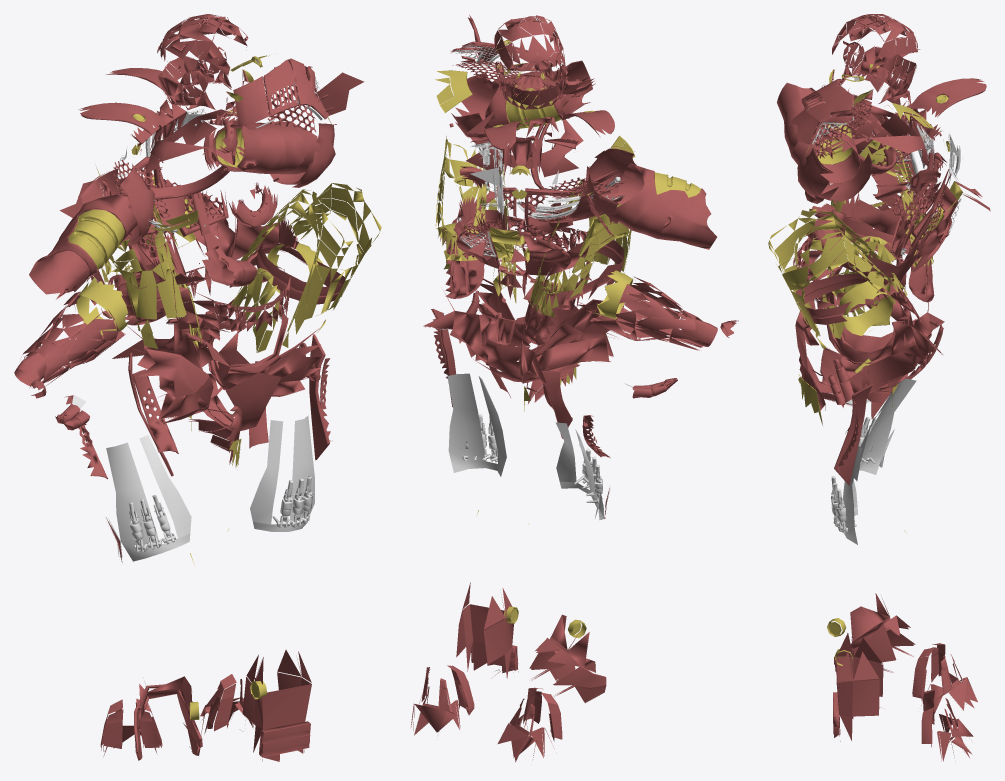
The model's file is walker.glb.
3 views of the same model, side by side, from view 1: azimuth 30°, elevation 25°; view 2: azimuth 150°, elevation 25°; view 3: azimuth 270°, elevation 25° (orthographic). The views are drawn at different scales.
Parts seen in each view (by area): view 1: im_LeftUpLeg_gold, im_Head_red, im_Spine_red, im_RightArm_red, im_Hips_red, im_LeftShoulder_red, im_RightUpLeg_red, im_LeftArm_red, im_LeftFoot_red, im_RightForeArm_red, im_RightLeg_black, im_LeftUpLeg_red (+15 smaller); view 2: im_RightArm_red, im_RightUpLeg_red, im_Head_red, im_RightForeArm_red, im_LeftUpLeg_red, im_LeftLeg_black, im_Hips_red, im_Neck_red, im_LeftFoot_red, im_LeftArm_red, im_RightUpLeg_gold, im_RightFoot_red (+21 smaller); view 3: im_Head_red, im_LeftUpLeg_gold, im_LeftUpLeg_red, im_LeftArm_red, im_RightUpLeg_red, im_Spine_red, im_LeftFoot_red, im_LeftShoulder_red, im_Spine1_red, im_RightFoot_red, im_Hips_red, im_RightToeBase_red (+18 smaller).
Part boxes in pixels (<box>): im_LeftUpLeg_gold: <box>231,183,381,352</box>; im_Head_red: <box>78,14,248,134</box>; im_Spine_red: <box>135,214,298,340</box>; im_RightArm_red: <box>29,167,154,299</box>; im_Hips_red: <box>159,310,288,464</box>; im_LeftShoulder_red: <box>203,58,364,170</box>; im_RightUpLeg_red: <box>91,270,213,423</box>; im_LeftArm_red: <box>212,121,336,187</box>; im_LeftFoot_red: <box>239,650,311,761</box>; im_RightForeArm_red: <box>14,273,125,398</box>; im_RightLeg_black: <box>106,435,191,561</box>; im_LeftUpLeg_red: <box>208,243,345,396</box>; im_RightArm_red: <box>582,146,716,249</box>; im_RightUpLeg_red: <box>518,238,624,383</box>; im_Head_red: <box>484,15,614,149</box>; im_RightForeArm_red: <box>577,276,738,350</box>; im_LeftUpLeg_red: <box>423,209,514,368</box>; im_LeftLeg_black: <box>447,373,506,476</box>; im_Hips_red: <box>473,259,591,403</box>; im_Neck_red: <box>465,74,583,177</box>; im_LeftFoot_red: <box>456,582,518,678</box>; im_LeftArm_red: <box>451,60,592,136</box>; im_RightUpLeg_gold: <box>529,178,631,316</box>; im_RightFoot_red: <box>529,614,606,703</box>; im_Head_red: <box>831,14,986,117</box>; im_LeftUpLeg_gold: <box>768,208,907,373</box>; im_LeftUpLeg_red: <box>796,273,942,407</box>; im_LeftArm_red: <box>777,83,872,201</box>; im_RightUpLeg_red: <box>826,194,944,362</box>; im_Spine_red: <box>793,192,921,312</box>; im_LeftFoot_red: <box>833,633,883,741</box>; im_LeftShoulder_red: <box>789,79,941,192</box>; im_Spine1_red: <box>805,169,990,272</box>; im_RightFoot_red: <box>834,593,915,672</box>; im_Hips_red: <box>795,267,914,410</box>; im_RightToeBase_red: <box>912,643,977,713</box>.
Size of the model in its own units: 0.7844 by 1.77 by 0.4984.
